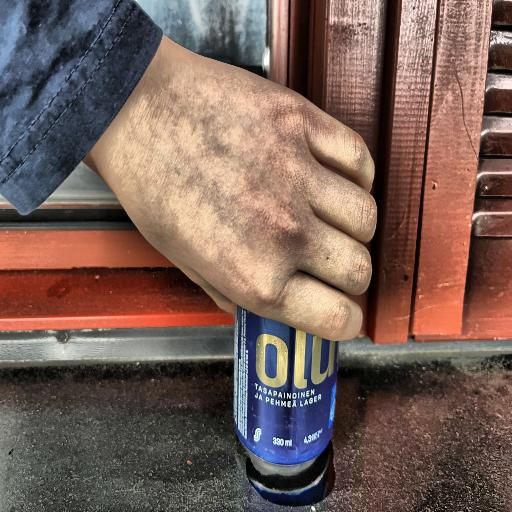koti: (222, 125, 351, 468)
